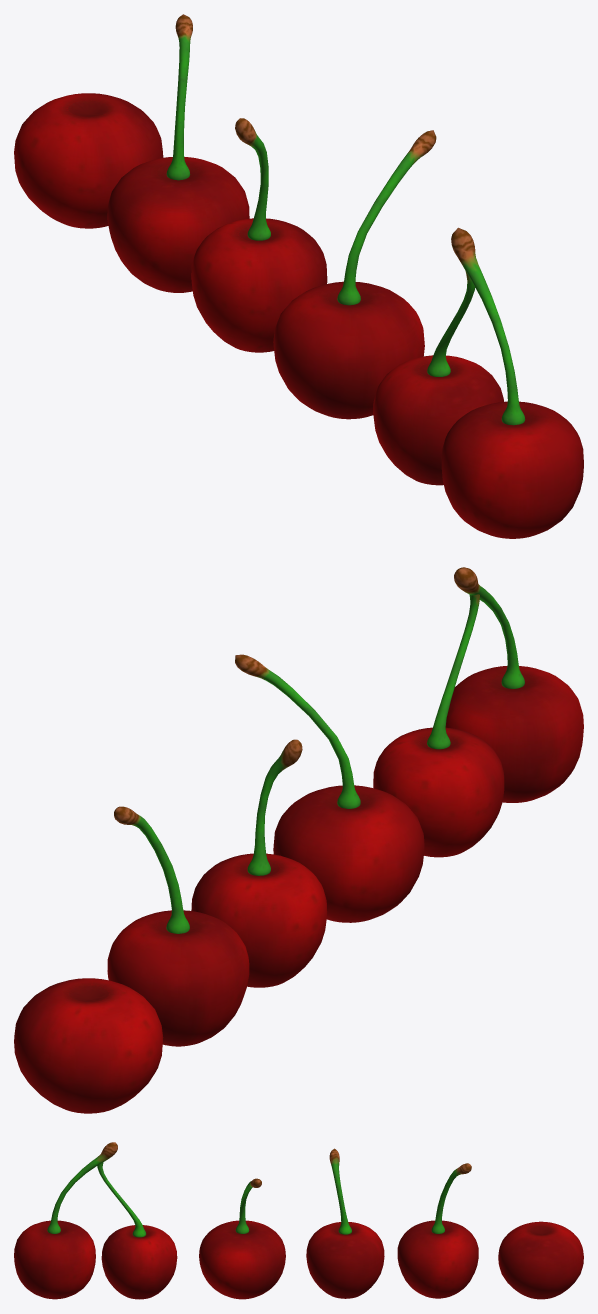
The model's file is cherry-2.glb.
The picture shows the model from 3 angles, top to bottom: view 1: azimuth 30°, elevation 25°; view 2: azimuth 150°, elevation 25°; view 3: azimuth 270°, elevation 25°; orthographic projection. The views are drawn at different scales.
Visible parts, largest first — view 1: Object_3; view 2: Object_3; view 3: Object_3.
Boxes of the visible parts, <box> form: Object_3: <box>14,14,583,538</box>; Object_3: <box>14,567,583,1113</box>; Object_3: <box>14,1142,583,1299</box>.
Size of the model in its own units: 1.06 by 1.62 by 5.53.
1 material, 1 textured.
